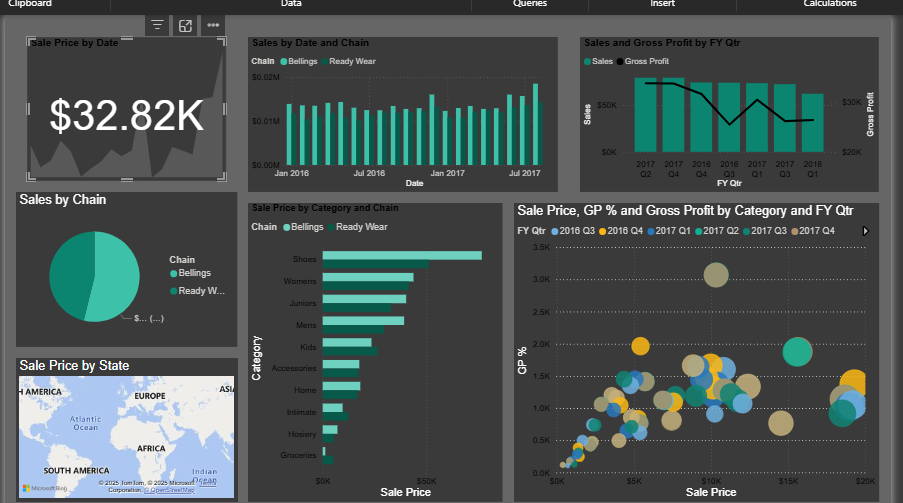

The dashboard page shown, as its layout file describes it:
{"tool":"powerbi","page":{"name":"Dashboard","canvas":[1280,720],"ordinal":0},"visuals":[{"type":"kpi","fields":{"TrendLine":["Sales.Date"],"Indicator":["Sum(Sales.Sale Price)"]},"box":[32,32,288,208],"z":0},{"type":"clusteredColumnChart","title":"Sales  by Date and Chain","fields":{"Category":["Sales.Date"],"Series":["Sales.Chain"],"Y":["Sum(Sales.Sale Price)"]},"box":[352,32,448,224],"z":1000},{"type":"lineClusteredColumnComboChart","fields":{"Y":["Sum(Sales.Sale Price)"],"Category":["Dates.FY Qtr"],"Y2":["Important Measures.Gross Profit"]},"box":[832,32,432,224],"z":2000},{"type":"pieChart","fields":{"Category":["Sales.Chain"],"Y":["Sum(Sales.Sale Price)"]},"box":[16,256,320,224],"z":3000},{"type":"map","fields":{"Size":["Sum(Sales.Sale Price)"],"Category":["Regions.State"]},"box":[16,496,320,208],"z":4000},{"type":"clusteredBarChart","fields":{"Y":["Sum(Sales.Sale Price)"],"Category":["Sales.Category"],"Series":["Sales.Chain"]},"box":[352,272,368,432],"z":5000},{"type":"scatterChart","fields":{"X":["Sum(Sales.Sale Price)"],"Y":["Important Measures.GP %"],"Size":["Important Measures.Gross Profit"],"Category":["Sales.Category"],"Series":["Dates.FY Qtr"]},"box":[736,272,528,432],"z":6000}]}

Visuals, with their boxes in screenshot pixels (x1, y1, x2, y2):
kpi - Sales.Date x Sum(Sales.Sale Price): {"left": 27, "top": 36, "right": 225, "bottom": 180}
"Sales  by Date and Chain" clusteredColumnChart: {"left": 247, "top": 36, "right": 556, "bottom": 191}
lineClusteredColumnComboChart - Sum(Sales.Sale Price) x Dates.FY Qtr: {"left": 578, "top": 36, "right": 876, "bottom": 191}
pieChart - Sales.Chain x Sum(Sales.Sale Price): {"left": 16, "top": 191, "right": 236, "bottom": 345}
map - Sum(Sales.Sale Price) x Regions.State: {"left": 16, "top": 356, "right": 236, "bottom": 499}
clusteredBarChart - Sum(Sales.Sale Price) x Sales.Category: {"left": 247, "top": 202, "right": 501, "bottom": 499}
scatterChart - Sum(Sales.Sale Price) x Important Measures.GP %: {"left": 512, "top": 202, "right": 876, "bottom": 499}
